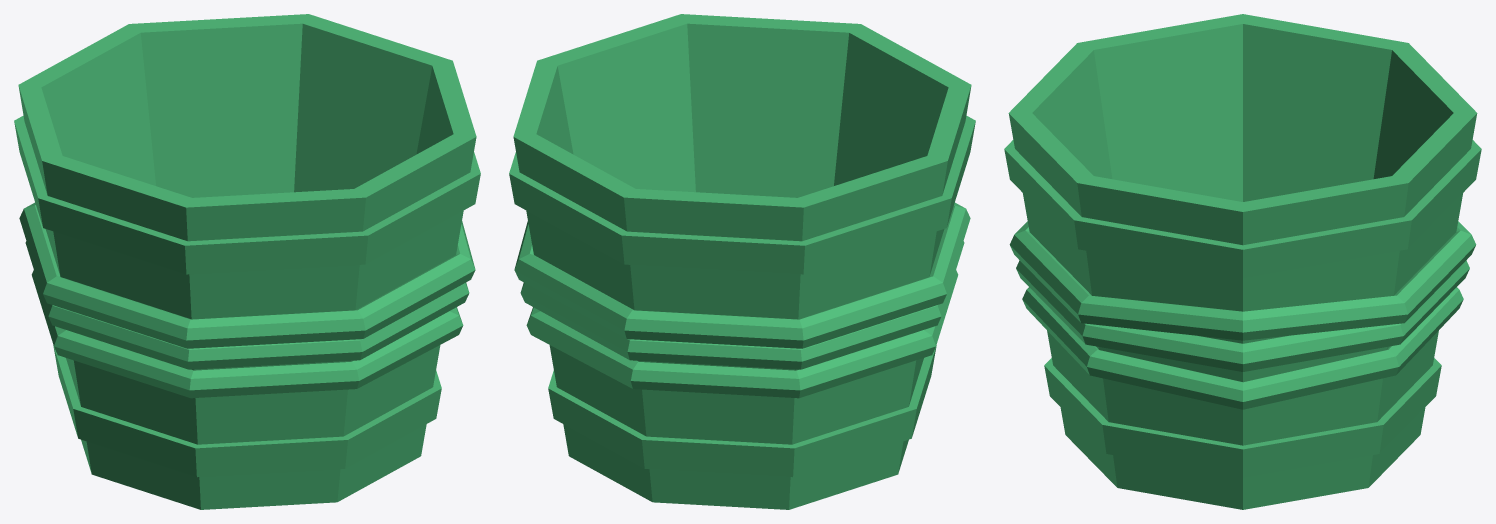
Rendered from Bukcket.fbx.
3 renders of one model, left to right at view 1: azimuth 30°, elevation 25°; view 2: azimuth 150°, elevation 25°; view 3: azimuth 270°, elevation 25°, orthographic.
Visible parts, largest first — view 1: bucket; view 2: bucket; view 3: bucket.
Part boxes in pixels (x1=…): bucket: x1=14, y1=14, x2=480, y2=509; bucket: x1=509, y1=14, x2=975, y2=509; bucket: x1=1004, y1=14, x2=1481, y2=509.
Size of the model in its own units: 0.6959 by 0.5176 by 0.6959.
